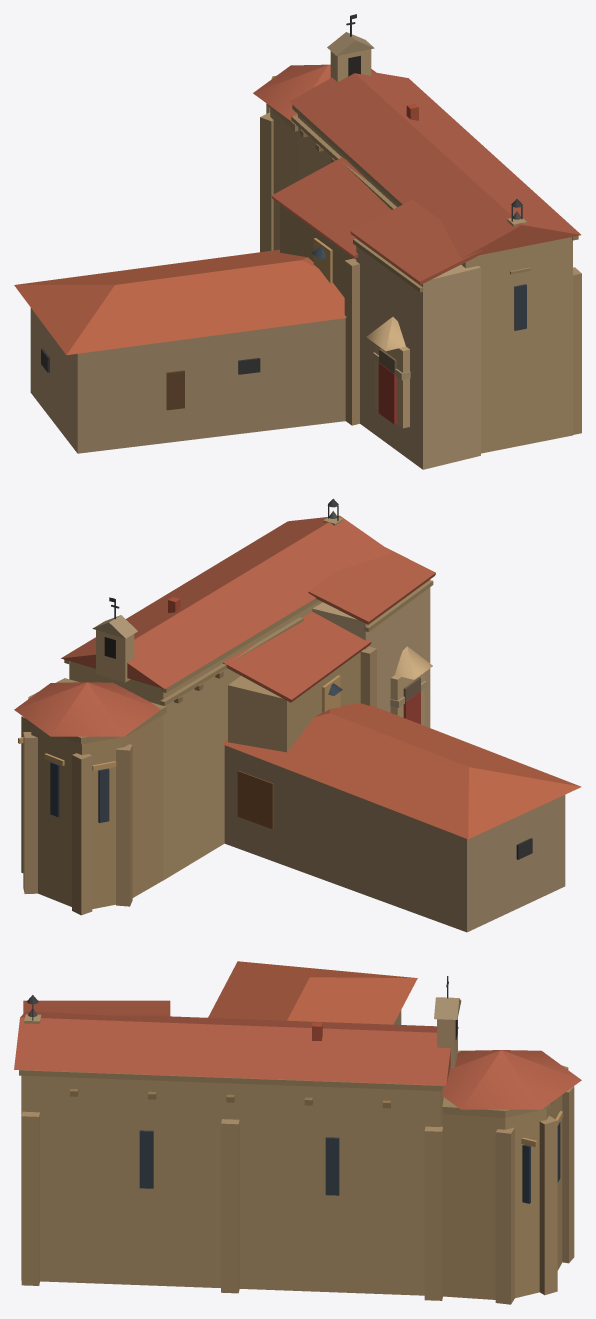
The model's file is eglise-saint-jean-baptiste.glb.
The picture shows the model from 3 angles, top to bottom: view 1: azimuth 30°, elevation 25°; view 2: azimuth 150°, elevation 25°; view 3: azimuth 270°, elevation 25°; orthographic projection. The views are drawn at different scales.
Parts seen in each view (by area): view 1: Église Saint-Jean-Baptiste – Vic-le-Comte; view 2: Église Saint-Jean-Baptiste – Vic-le-Comte; view 3: Église Saint-Jean-Baptiste – Vic-le-Comte.
Part boxes in pixels (<box>): Église Saint-Jean-Baptiste – Vic-le-Comte: <box>14,14,581,469</box>; Église Saint-Jean-Baptiste – Vic-le-Comte: <box>14,498,581,932</box>; Église Saint-Jean-Baptiste – Vic-le-Comte: <box>14,961,581,1304</box>.
Size of the model in its own units: 28.08 by 16.52 by 28.92.
